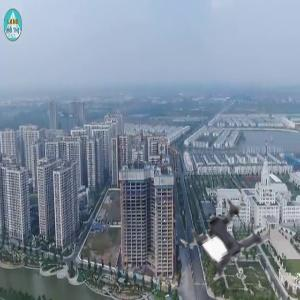drone: (178, 188, 277, 287)
